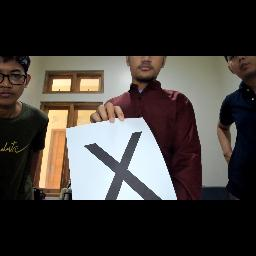x: (80, 128, 170, 200)
